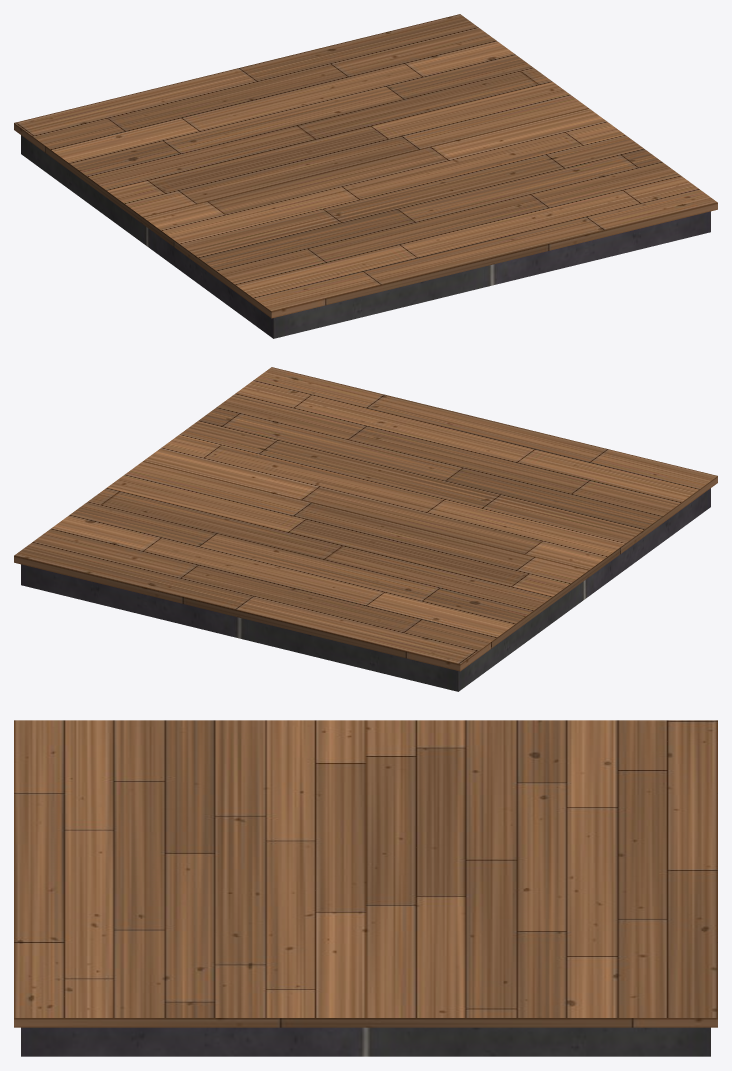
Rendered from floor_floor_g.glb.
3 renders of one model, top to bottom at view 1: azimuth 30°, elevation 25°; view 2: azimuth 150°, elevation 25°; view 3: azimuth 270°, elevation 25°, orthographic. The views are drawn at different scales.
Parts seen in each view (by area): view 1: floor_floor_g_floor, floor_floor_g_plinth; view 2: floor_floor_g_floor, floor_floor_g_plinth; view 3: floor_floor_g_floor, floor_floor_g_plinth.
Boxes of the visible parts, left/top/right/bottom form: floor_floor_g_floor: left=14, top=14, right=717, bottom=318; floor_floor_g_plinth: left=21, top=135, right=710, bottom=338; floor_floor_g_floor: left=14, top=367, right=717, bottom=671; floor_floor_g_plinth: left=21, top=488, right=710, bottom=691; floor_floor_g_floor: left=14, top=720, right=717, bottom=1027; floor_floor_g_plinth: left=21, top=1027, right=710, bottom=1056.
Bounding box in the file's own units: 2 × 0.13 × 2.
Materials: 2 (2 with a texture image).
